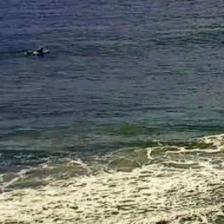surfer: (24, 48, 44, 56)
